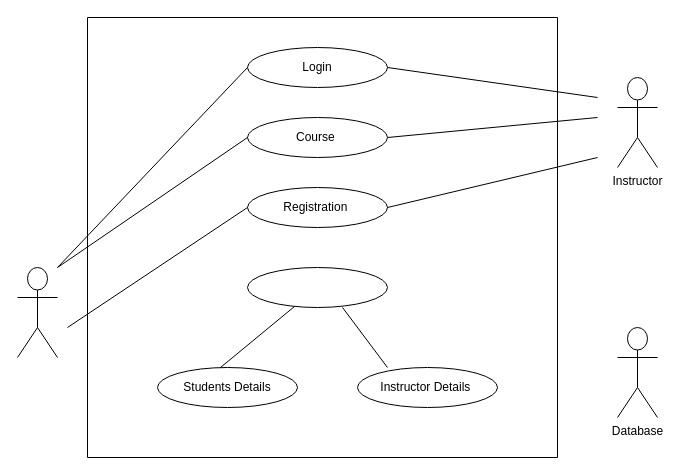
The diagram is 680 pixels wide and 476 high, and some of its shapes have lost their labels. Here are the shapes that lost their labels. From the top down, the centre of each, then its label:
At point 317,287: "Details".
At point 37,312: "Actor".
